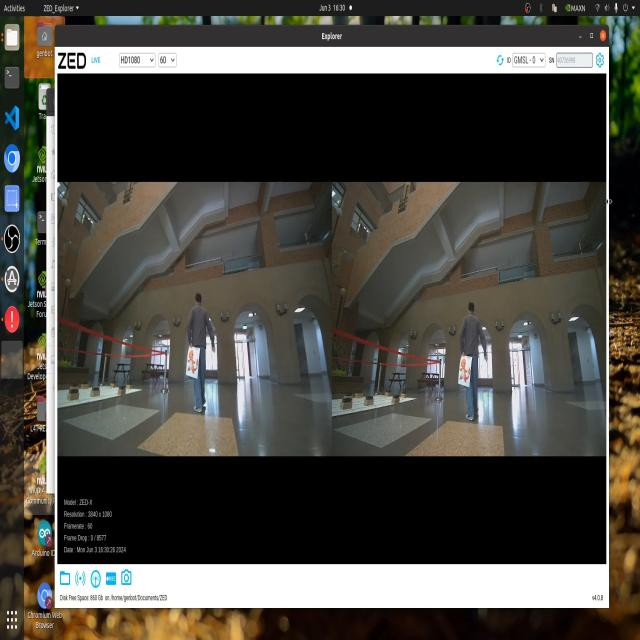red: (186, 345, 202, 382), (458, 354, 473, 388)
